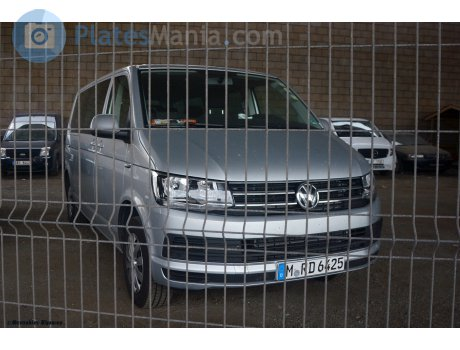License Plates: (284, 258, 345, 273)
